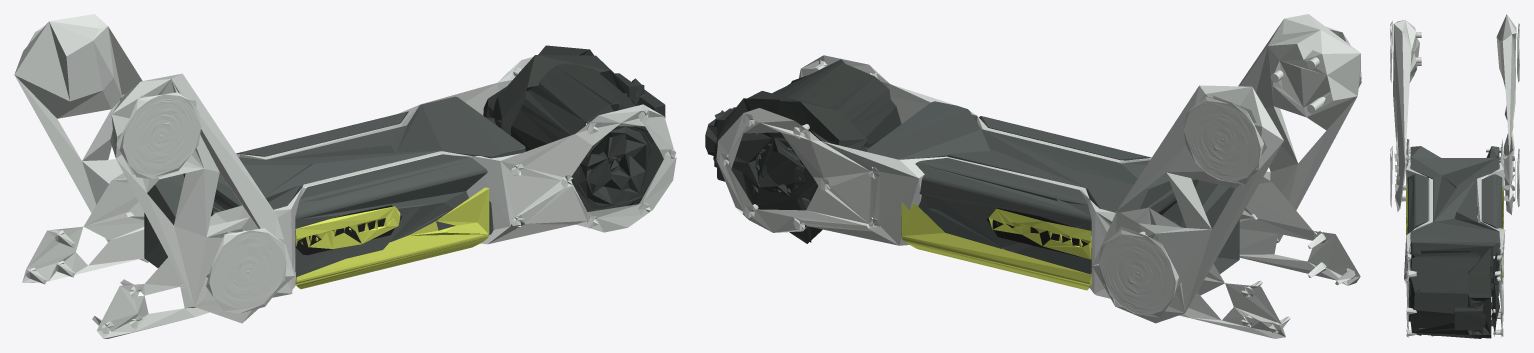
The picture shows the model from 3 angles, left to right: view 1: azimuth 30°, elevation 25°; view 2: azimuth 150°, elevation 25°; view 3: azimuth 270°, elevation 25°; orthographic projection. The views are drawn at different scales.
Parts seen in each view (by area): view 1: cnc3, pla3_black_without_seeed_badge, motor_4, pla3_green, pla3_seeed_badge_with_counters, pla3_seeed_wordmark_backing; view 2: cnc3, pla3_black_without_seeed_badge, motor_4, pla3_green, pla3_seeed_badge_with_counters, pla3_seeed_wordmark_backing; view 3: pla3_black_without_seeed_badge, cnc3, motor_4, pla3_seeed_badge_with_counters.
Part boxes in pixels (x1,y1,x2,y2): cnc3: [14, 14, 676, 338]; pla3_black_without_seeed_badge: [144, 96, 525, 278]; motor_4: [483, 45, 665, 227]; pla3_green: [295, 187, 489, 289]; pla3_seeed_badge_with_counters: [295, 206, 400, 248]; pla3_seeed_wordmark_backing: [295, 205, 401, 255]; cnc3: [716, 14, 1361, 338]; pla3_black_without_seeed_badge: [865, 101, 1239, 274]; motor_4: [705, 59, 901, 243]; pla3_green: [901, 201, 1091, 290]; pla3_seeed_badge_with_counters: [988, 208, 1091, 259]; pla3_seeed_wordmark_backing: [987, 208, 1088, 256]; pla3_black_without_seeed_badge: [1407, 146, 1502, 296]; cnc3: [1390, 14, 1519, 337]; motor_4: [1408, 247, 1499, 338]; pla3_seeed_badge_with_counters: [1406, 185, 1503, 228].
Size of the model in its own units: 0.295 by 0.1333 by 0.0866.
